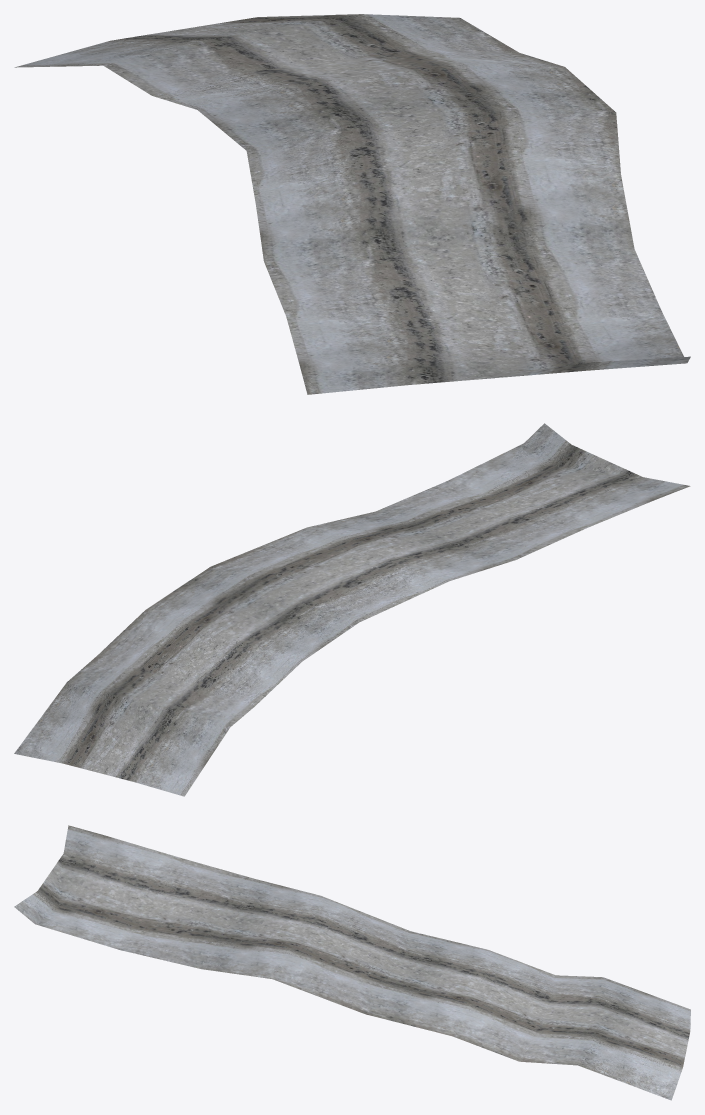
File: sloperoad_01.glb
3 views of the same model, one above another, from view 1: azimuth 30°, elevation 25°; view 2: azimuth 150°, elevation 25°; view 3: azimuth 270°, elevation 25° (orthographic). The views are drawn at different scales.
Parts seen in each view (by area): view 1: Plane; view 2: Plane; view 3: Plane.
Boxes of the visible parts, x1,y1,x2,y2 form: Plane: [14, 14, 690, 394]; Plane: [14, 423, 690, 796]; Plane: [14, 825, 690, 1100].
Size of the model in its own units: 118 by 37.97 by 207.
1 material, 1 textured.
